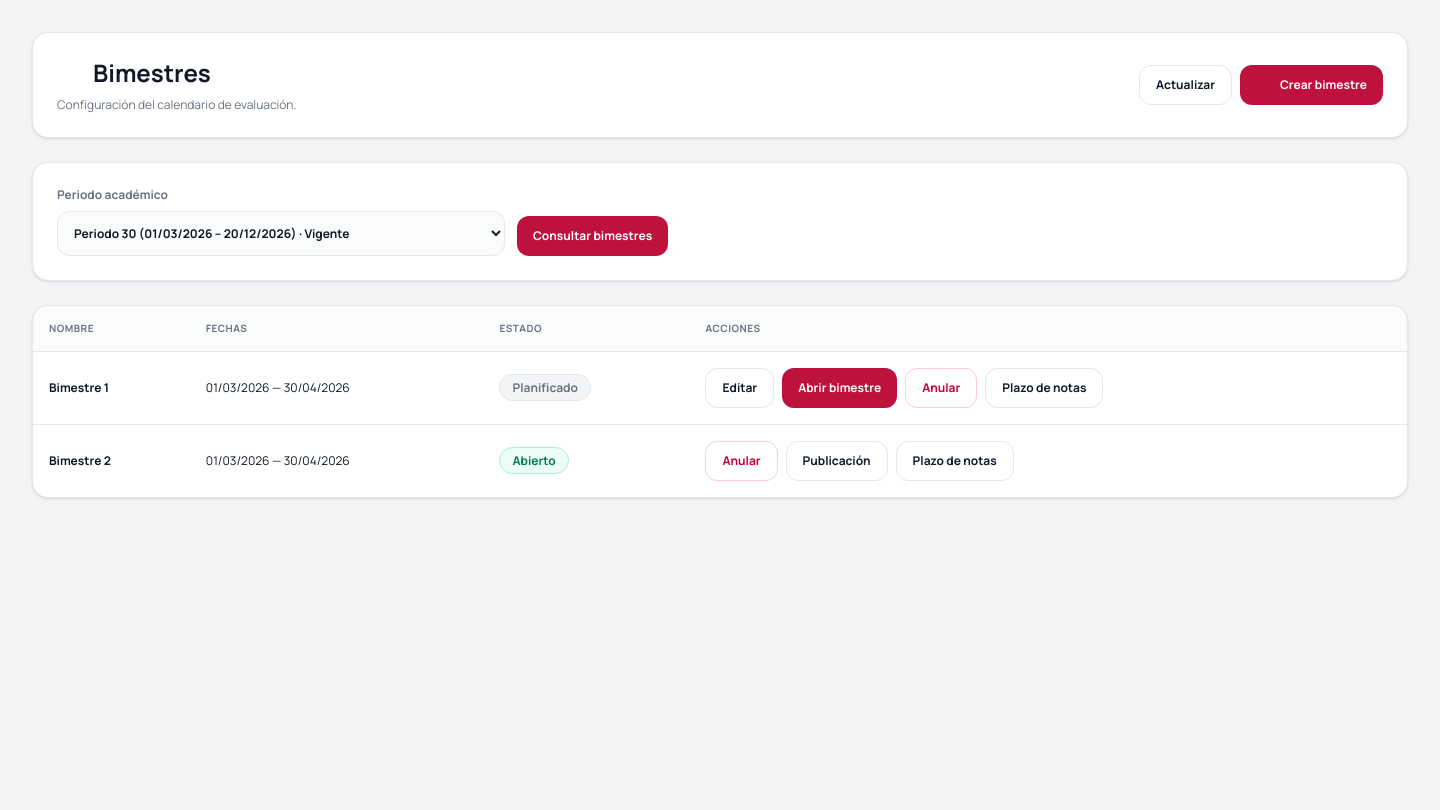
confirming sends one POST with the trimmed reason, reloads and confirms ANULADO from the GET
Click the button "Anular" in the row of "Bimestre 1" at (941, 388), box [905, 368, 977, 408]
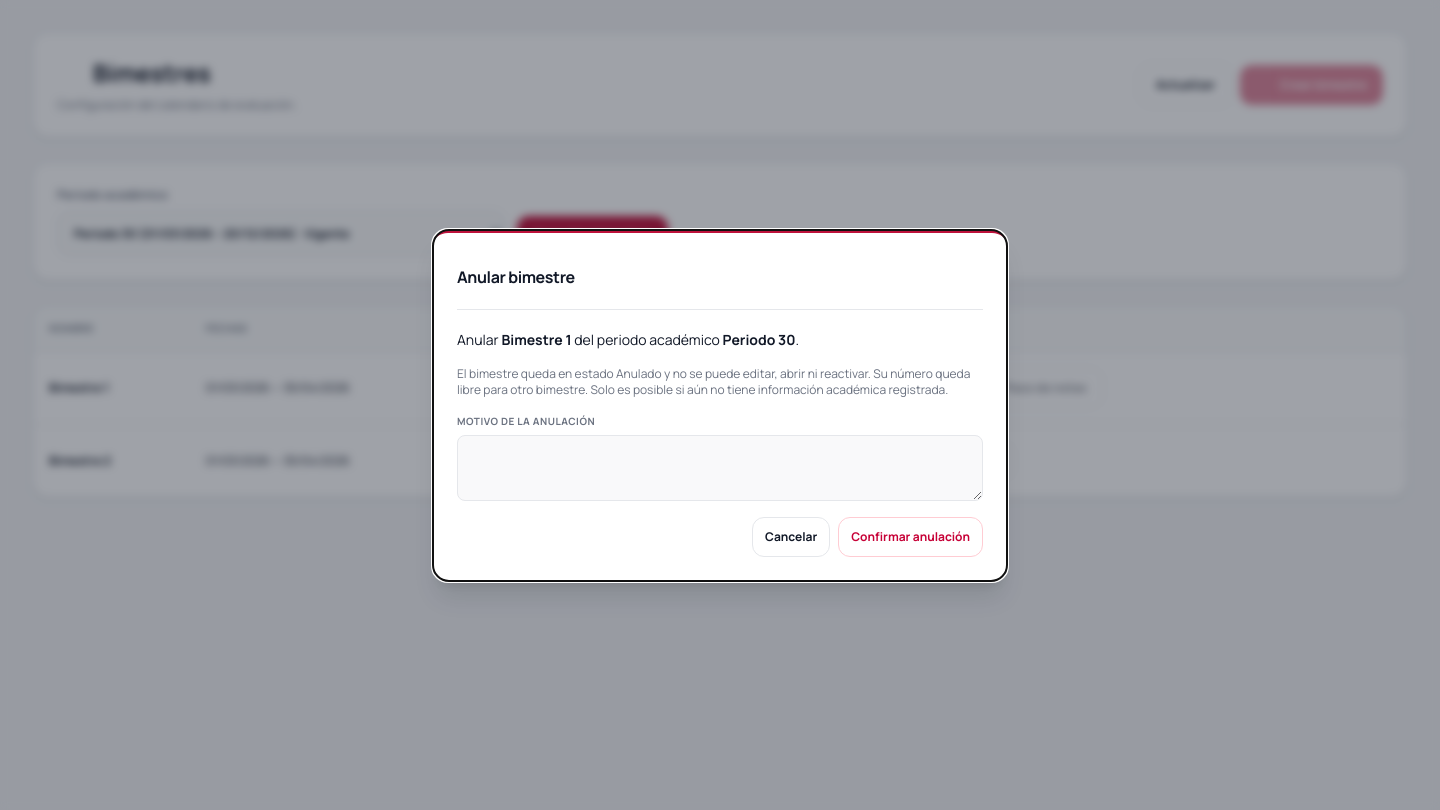
Type "  Bimestre creado por error  " into the text box labelled "Motivo de la anulación" at (720, 468), box [457, 434, 983, 500]
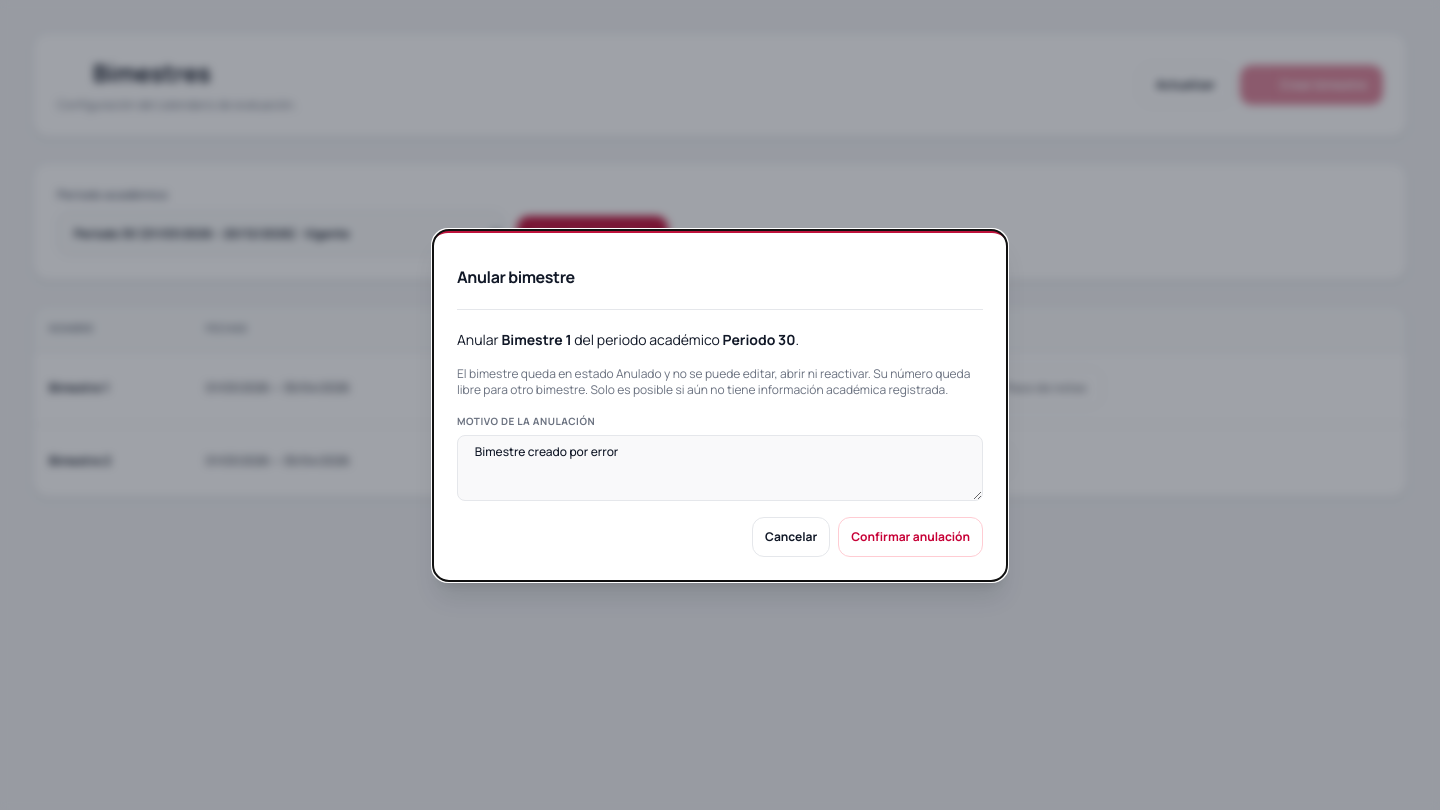
Submit the form, box [457, 330, 983, 556]
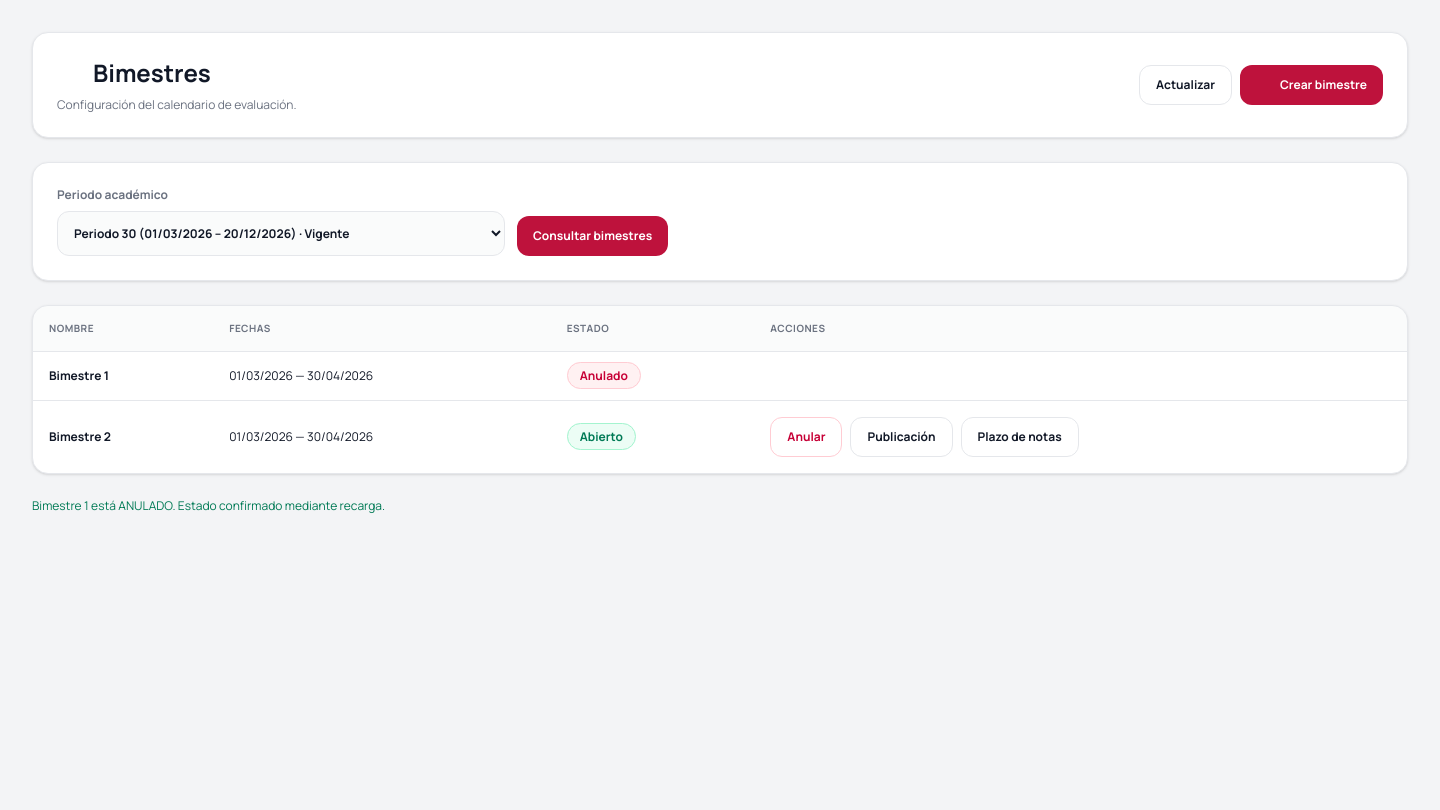
Result: the text "Bimestre 1 está ANULADO. Estado confirmado mediante recarga" is shown at [32, 497, 385, 514]
